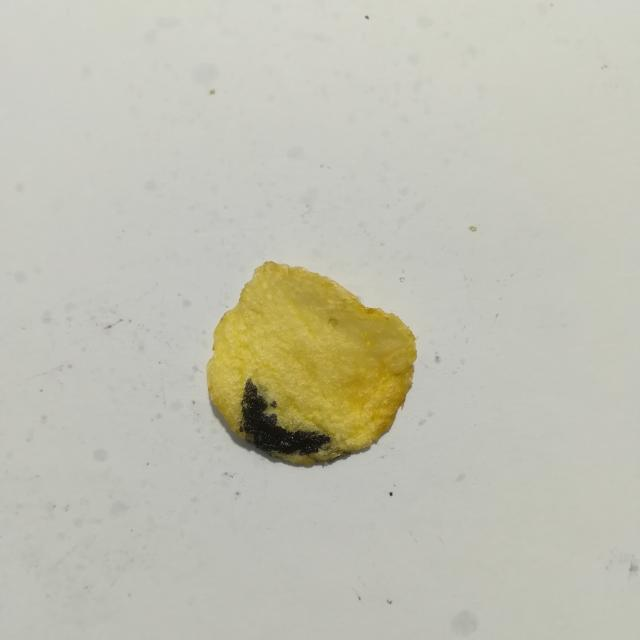chip: (206, 262, 416, 464)
damaged: (240, 378, 330, 455)
semi-damaged: (259, 385, 332, 435), (263, 436, 352, 465)
